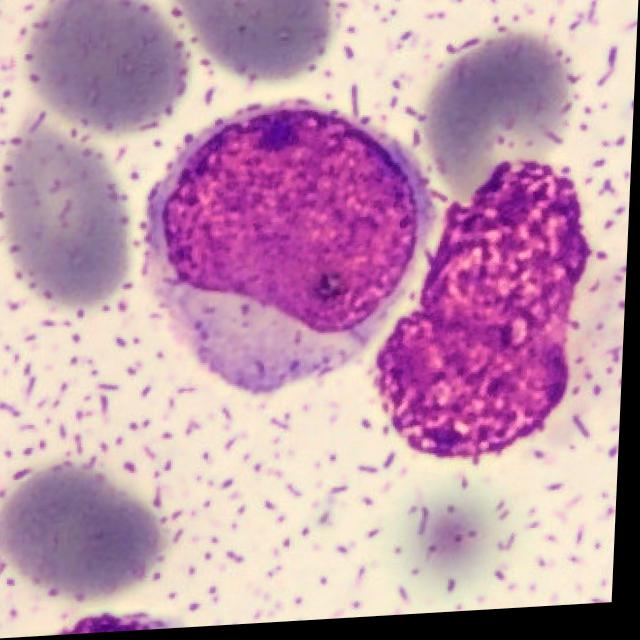Mieloblasto: (146, 103, 440, 394)
Restos celulares: (376, 165, 593, 467)
